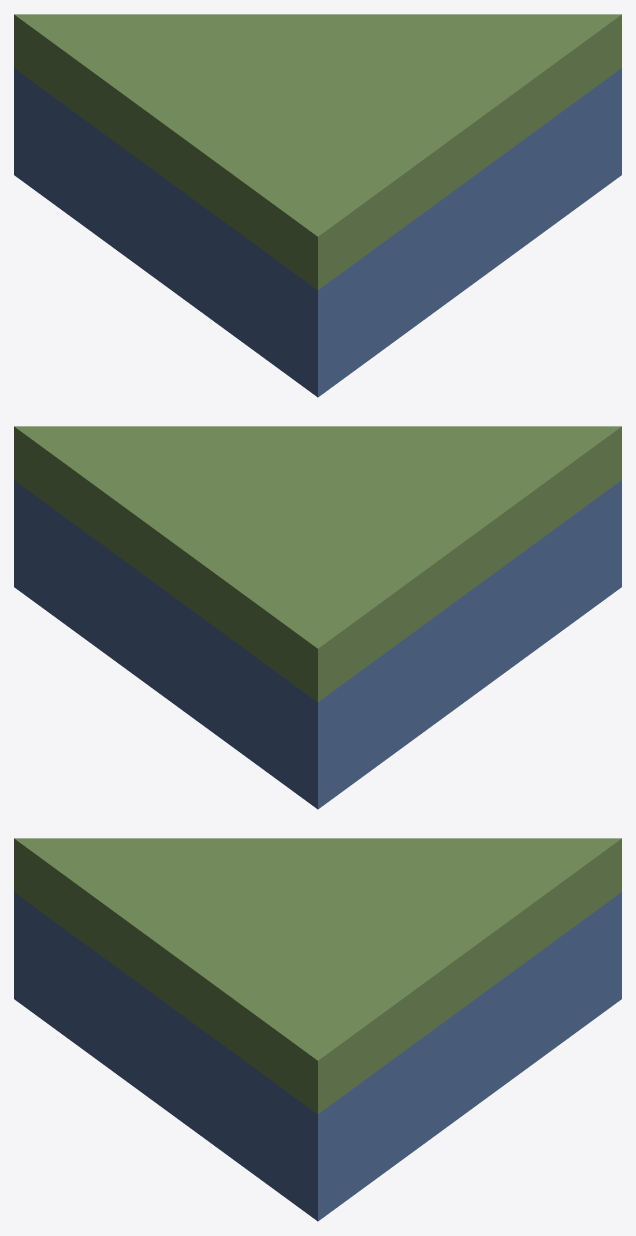
Rendered from tri_11.glb.
3 views of the same model, one above another, from view 1: azimuth 30°, elevation 25°; view 2: azimuth 150°, elevation 25°; view 3: azimuth 270°, elevation 25° (orthographic).
Parts seen in each view (by area): view 1: tri_11; view 2: tri_11; view 3: tri_11.
Boxes of the visible parts, <box> form: tri_11: <box>14,14,621,397</box>; tri_11: <box>14,426,621,809</box>; tri_11: <box>14,838,621,1221</box>.
Size of the model in its own units: 0.7423 by 0.25 by 0.8571.
